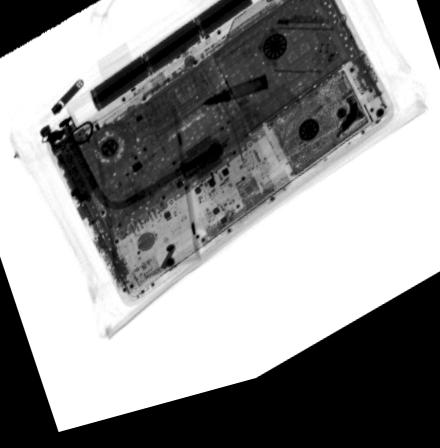Bullet: (201, 86, 270, 118)
